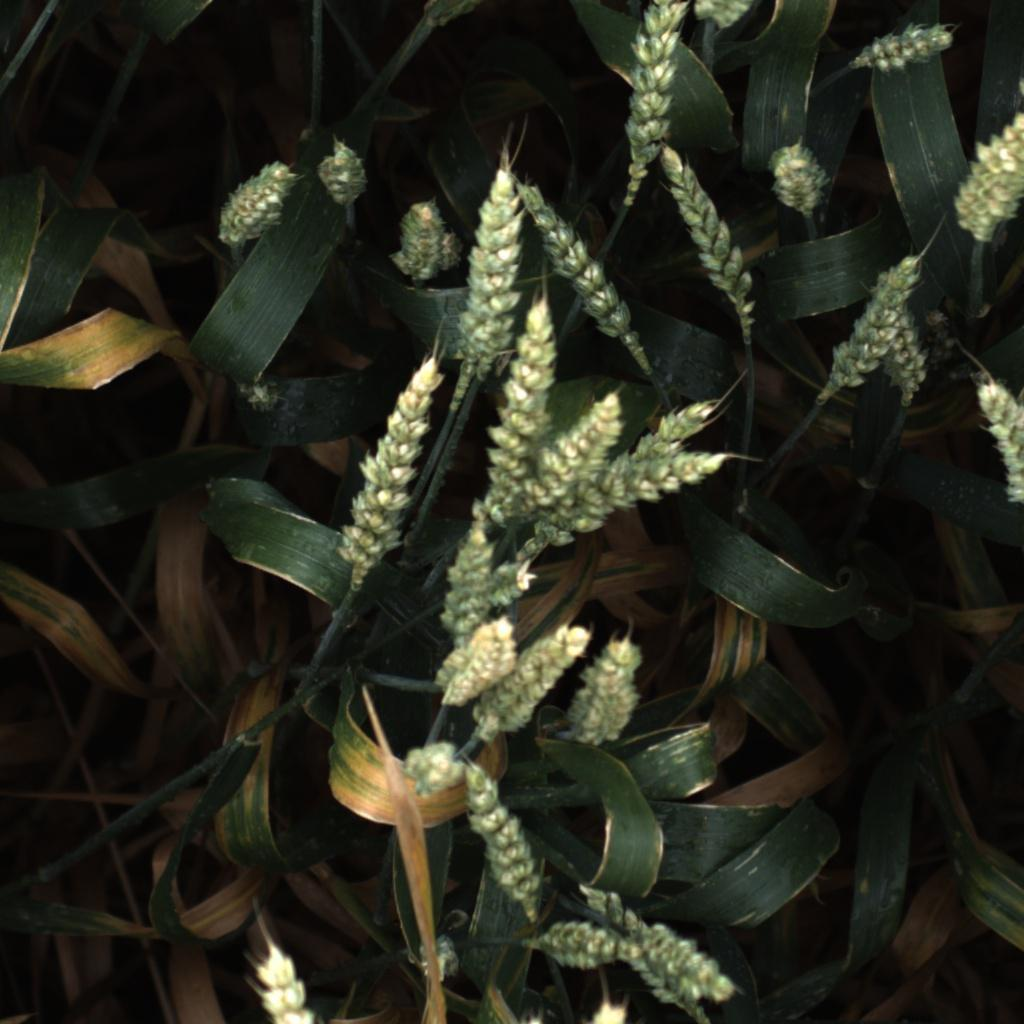0-0: (513, 392, 737, 554), (317, 348, 442, 584), (466, 293, 568, 535), (660, 134, 772, 336), (524, 173, 645, 336), (451, 147, 539, 365), (571, 881, 705, 1018), (808, 245, 931, 393), (473, 614, 603, 743), (526, 376, 627, 532), (457, 759, 559, 906), (620, 0, 696, 176), (951, 104, 1024, 243), (634, 910, 749, 998), (422, 611, 519, 715), (574, 635, 660, 752), (967, 364, 1024, 524), (207, 160, 304, 244), (386, 191, 463, 295), (430, 521, 500, 628), (850, 17, 963, 79), (251, 932, 326, 1024), (522, 912, 634, 970), (762, 128, 834, 217), (879, 302, 930, 408), (315, 137, 375, 214), (910, 296, 960, 386), (468, 556, 547, 612), (398, 740, 468, 795), (407, 937, 473, 989), (695, 0, 754, 33)
